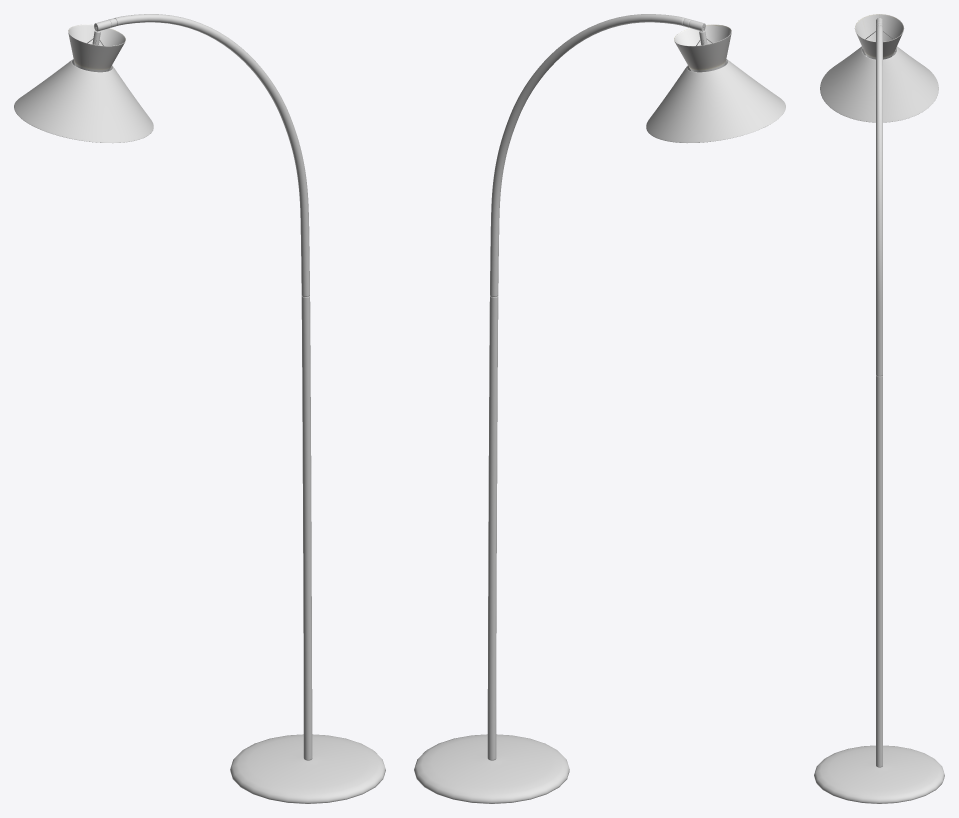
File: Lampe-AR.glb
3 views of the same model, side by side, from view 1: azimuth 30°, elevation 25°; view 2: azimuth 150°, elevation 25°; view 3: azimuth 270°, elevation 25° (orthographic). The views are drawn at different scales.
Visible parts, largest first — view 1: Lampen Stange, Schirm unten groß, Schirm oben klein; view 2: Lampen Stange, Schirm unten groß, Schirm oben klein; view 3: Lampen Stange, Schirm unten groß, Schirm oben klein.
Part boxes in pixels (x1=…): Lampen Stange: x1=94, y1=14, x2=385, y2=803; Schirm unten groß: x1=14, y1=59, x2=153, y2=143; Schirm oben klein: x1=68, y1=24, x2=125, y2=72; Lampen Stange: x1=414, y1=14, x2=705, y2=803; Schirm unten groß: x1=646, y1=59, x2=785, y2=143; Schirm oben klein: x1=674, y1=24, x2=731, y2=72; Lampen Stange: x1=814, y1=17, x2=944, y2=803; Schirm unten groß: x1=820, y1=46, x2=938, y2=122; Schirm oben klein: x1=854, y1=14, x2=904, y2=59.
Bounding box in the file's own units: 0.7631 × 1.66 × 0.2926.
Materials: 5 (1 with a texture image).
